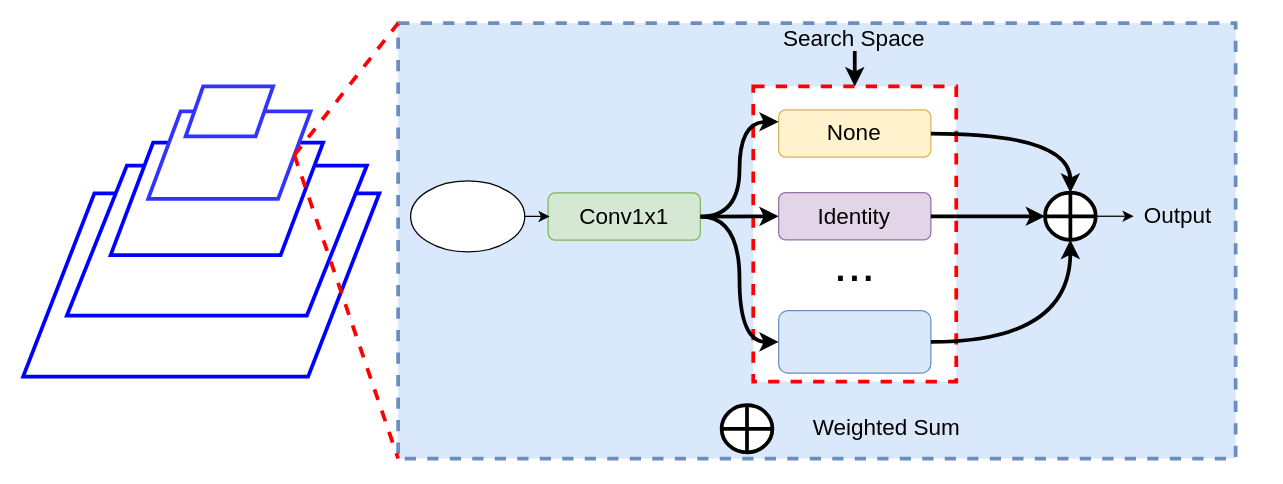
This 1283x484 diagram has some shape labels left out. Here are the shapes that lost their labels. From the top down, the box of each, then its label:
(409, 180, 525, 252): Input
(777, 309, 931, 373): Depthwise-separable 3x3
